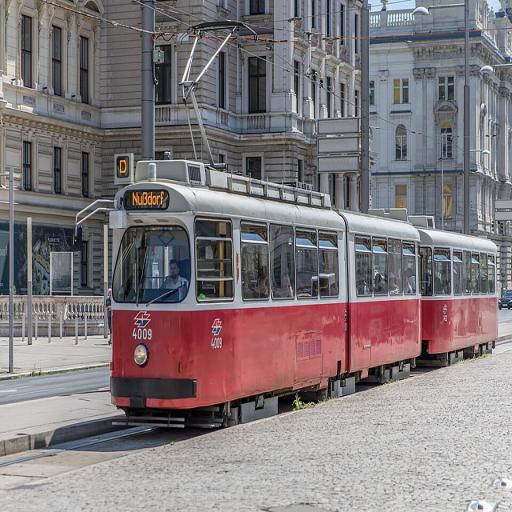E2-Tram: (110, 153, 500, 428)
